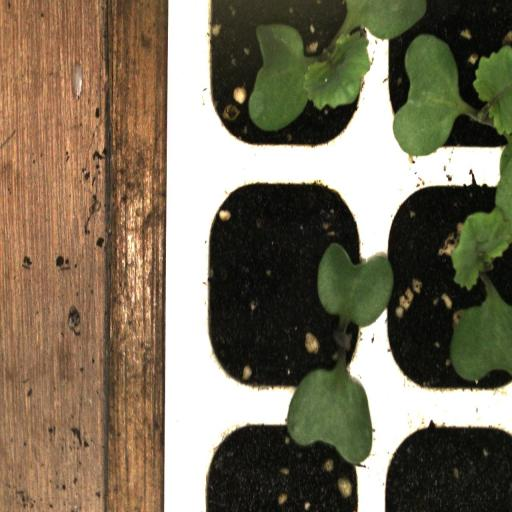seedling: (193, 164, 376, 409), (376, 158, 512, 408), (193, 2, 377, 161)
